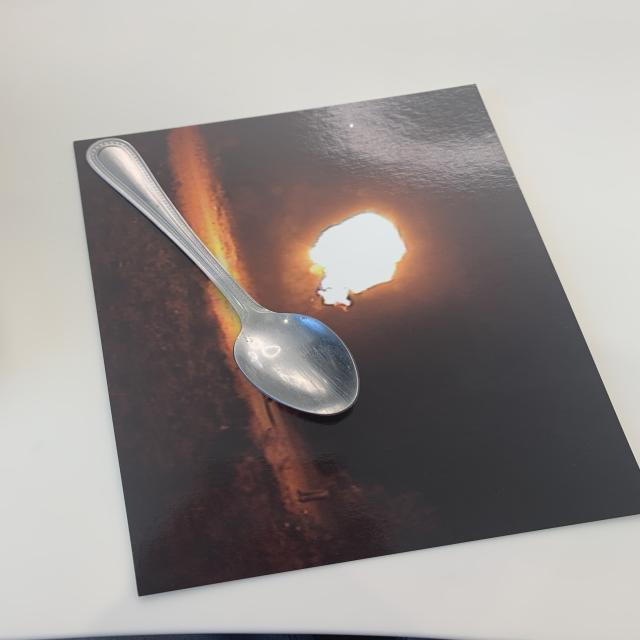Spoon: (50, 121, 378, 436)
